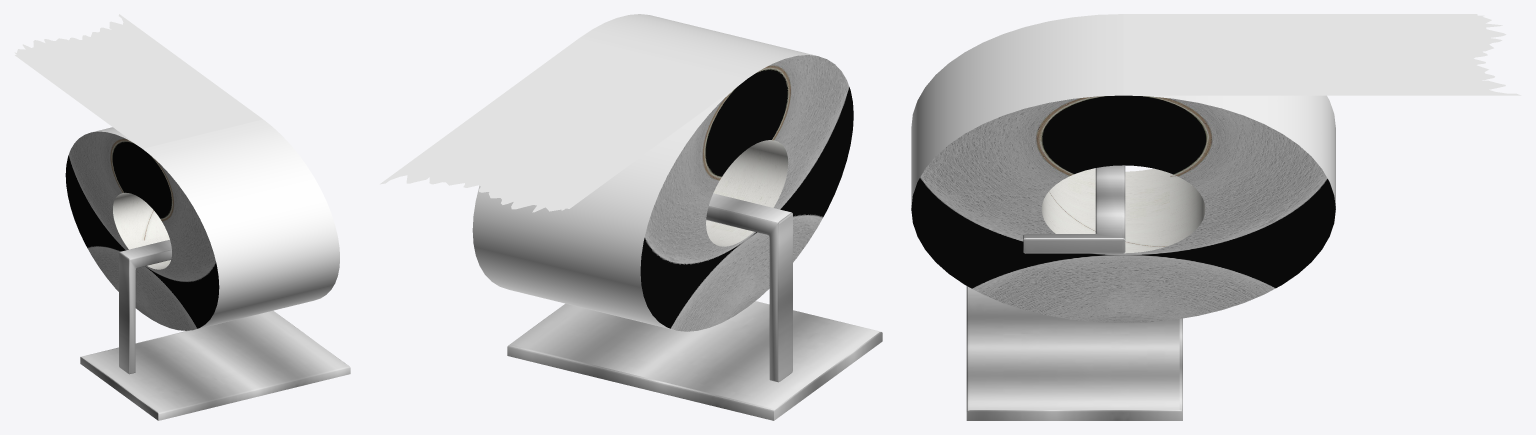
The model's file is PapelHigiênico.fbx.
3 views of the same model, side by side, from view 1: azimuth 30°, elevation 25°; view 2: azimuth 150°, elevation 25°; view 3: azimuth 270°, elevation 25° (orthographic). The views are drawn at different scales.
Visible parts, largest first — view 1: F01 toilet.002, group_ 2.017, Papel, group_.034; view 2: F01 toilet.002, group_ 2.017, Papel, group_.034; view 3: F01 toilet.002, group_ 2.017, group_.034, Papel.
Part boxes in pixels (x1,y1,x2,y2): F01 toilet.002: (14, 14, 339, 330); group_ 2.017: (80, 310, 350, 420); Papel: (119, 239, 171, 374); group_.034: (113, 192, 170, 269); F01 toilet.002: (380, 14, 853, 331); group_ 2.017: (507, 301, 882, 420); Papel: (706, 193, 792, 382); group_.034: (706, 140, 788, 246); F01 toilet.002: (911, 14, 1521, 322); group_ 2.017: (966, 286, 1182, 420); group_.034: (1041, 168, 1205, 253); Papel: (1023, 165, 1125, 253).
Bounding box in the file's own units: 1.6 × 1.76 × 3.19.
4 materials, 3 textured.
